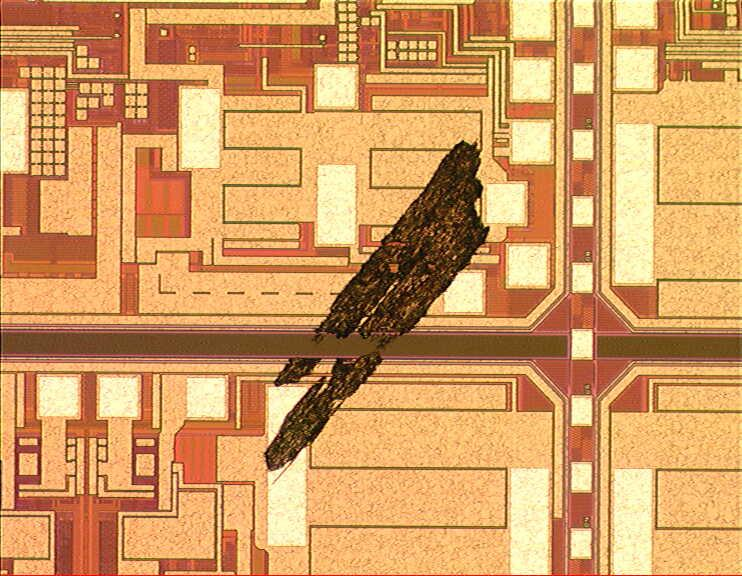SCRATCH: (260, 136, 499, 496)
